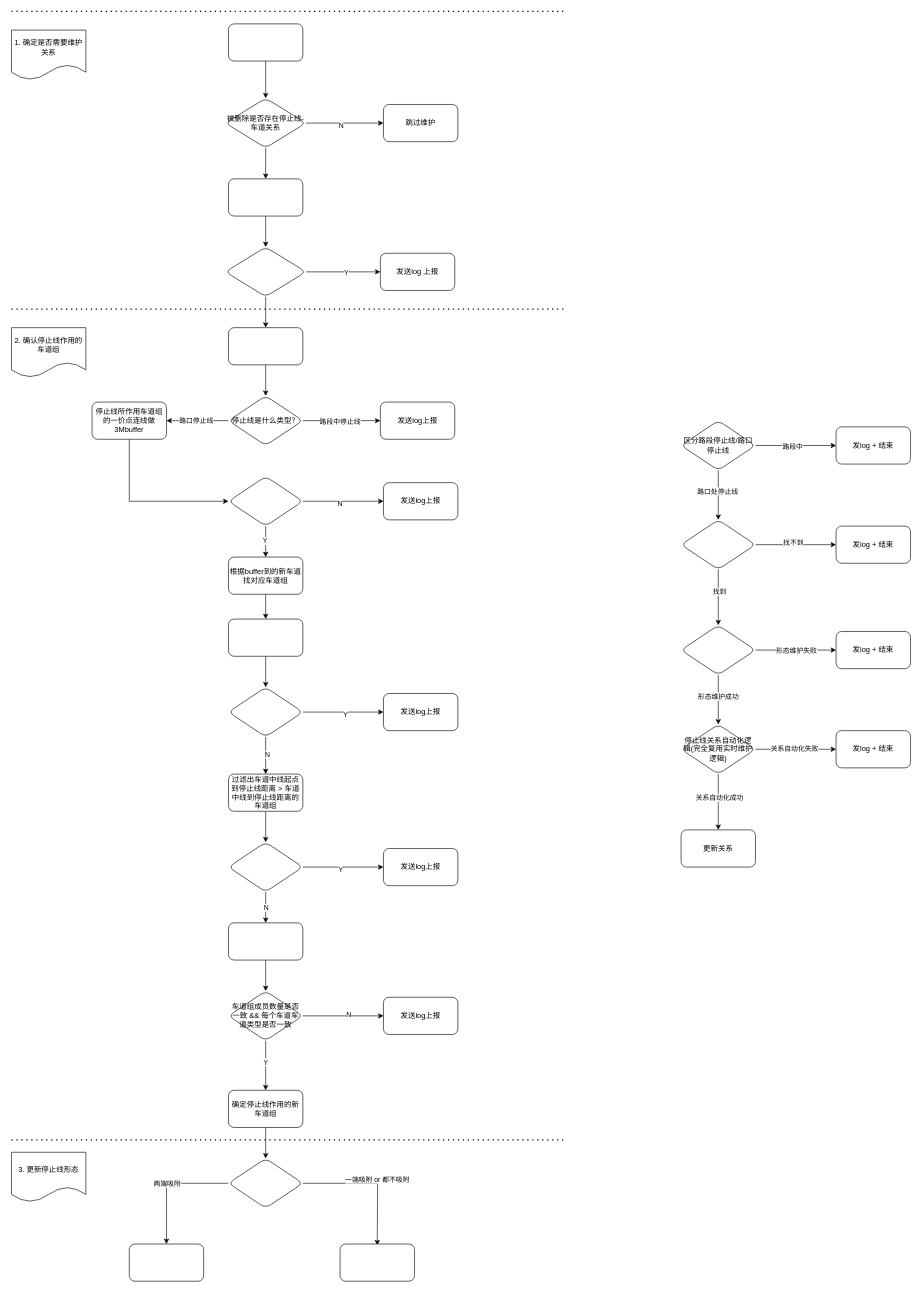
The diagram is 921 pixels wide and 1292 high, and some of its shapes have lost their labels. Each missing label, with the box of its shape:
buffer内是否找到新车道: (228, 476, 303, 526)
从停止线-车道关系中提取停止线: (228, 327, 303, 365)
删除车道: (228, 23, 303, 61)
判断停止线之前的吸附场景: (228, 1158, 303, 1208)
找停止线作用车道组: (680, 519, 755, 569)
找出上述车道组中、行驶方向为驶向停止线的车道组: (228, 618, 303, 656)
旧停止线-车道关系是否作用于多个车道？: (225, 246, 306, 297)
是否存在车道组成员全为双向车道的车道组: (228, 687, 303, 737)
检查车道组和原停止线作用车道组特征是否匹配: (228, 922, 303, 960)
维护停止线新形态 (复用部分停止线 形态维护逻辑): (680, 625, 755, 675)
获取旧停止线-车道关系: (228, 178, 303, 216)
过滤后车道组个数是否不等于 1: (228, 842, 303, 892)
